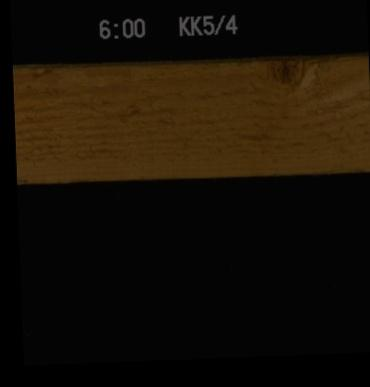edge_knot: (247, 56, 313, 91)
